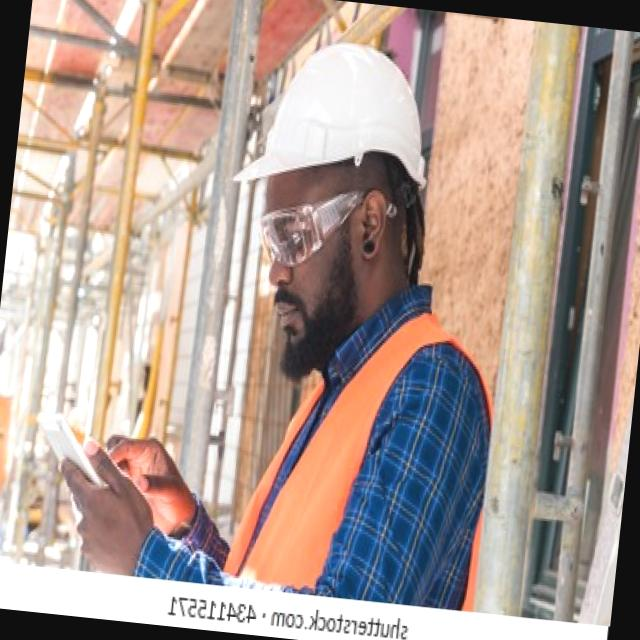goggles: (241, 166, 370, 284)
helmet: (222, 26, 452, 212)
vest: (217, 292, 502, 613)
